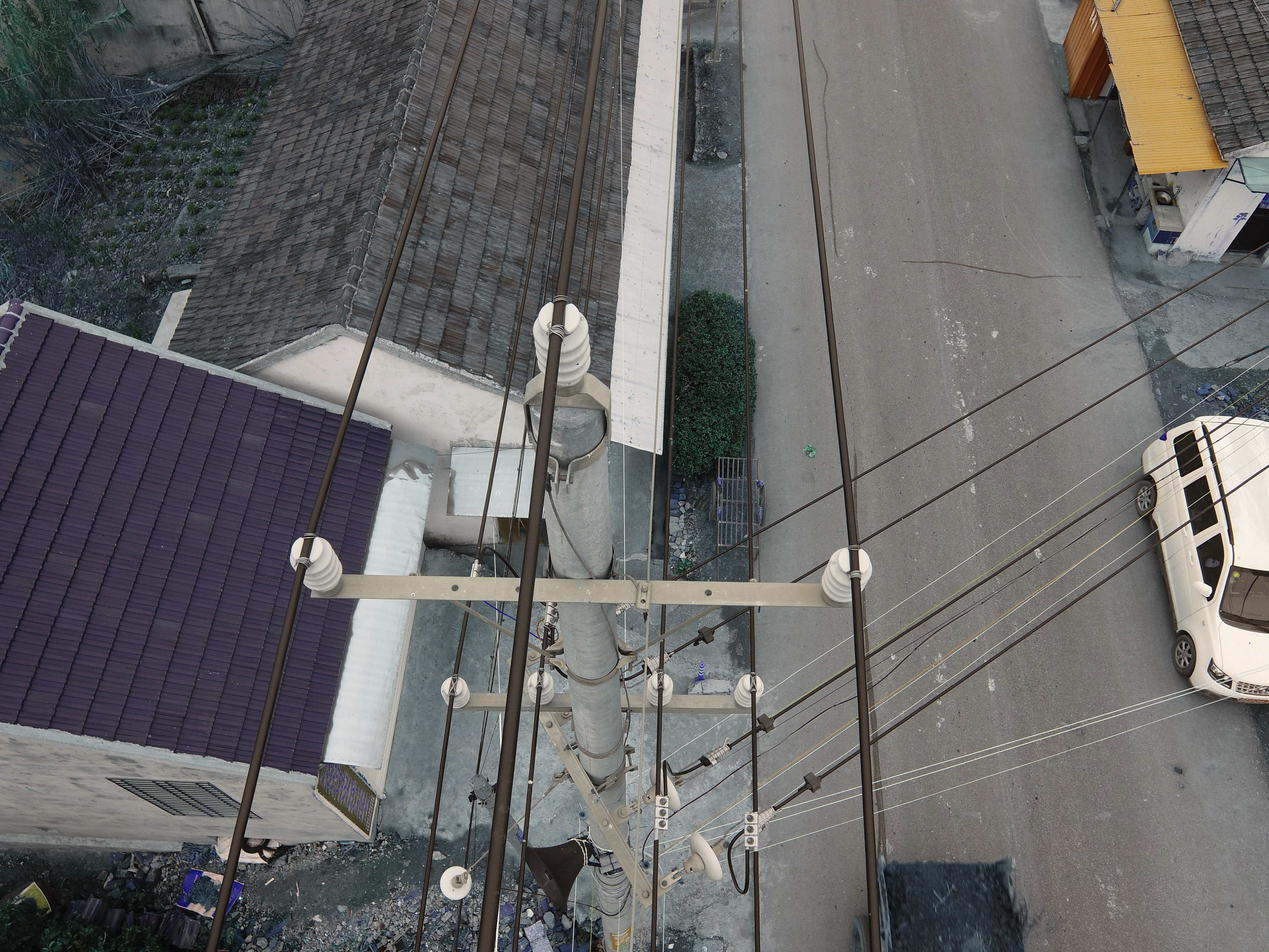severe_soiling_no_discharge_whole: (639, 860, 652, 872), (578, 810, 589, 821)
